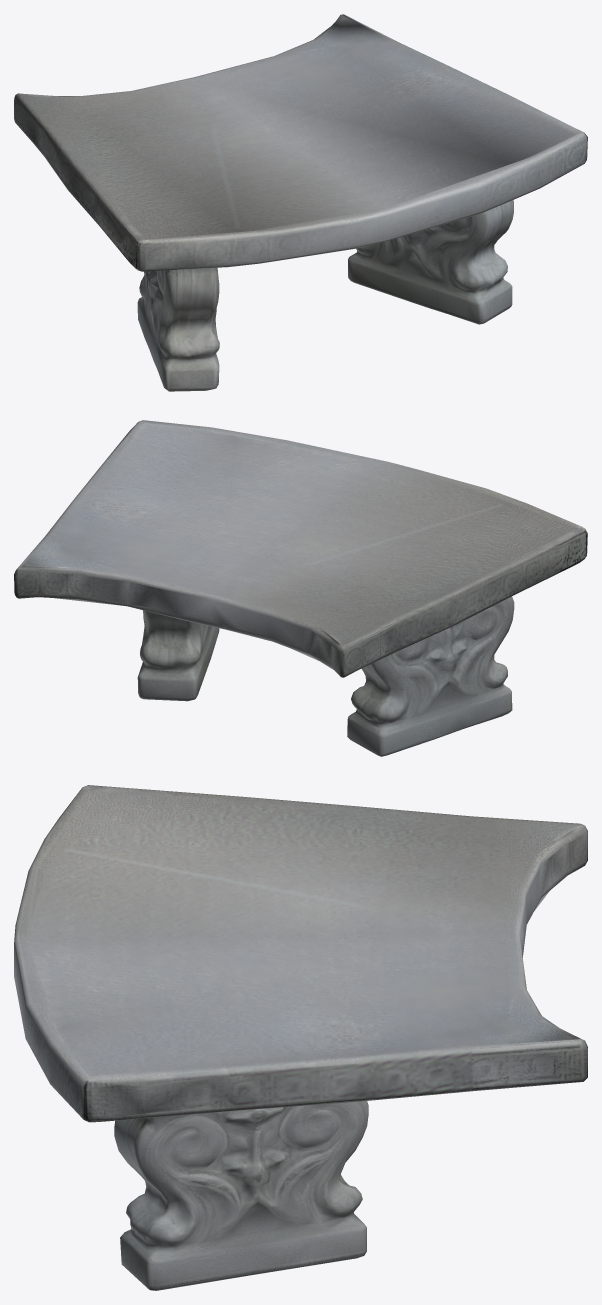
Rendered from ANTIQUE_Bench_Plasti_0403043156_texture.glb.
3 views of the same model, one above another, from view 1: azimuth 30°, elevation 25°; view 2: azimuth 150°, elevation 25°; view 3: azimuth 270°, elevation 25° (orthographic). The views are drawn at different scales.
Parts seen in each view (by area): view 1: Mesh_0.003; view 2: Mesh_0.003; view 3: Mesh_0.003.
Part boxes in pixels (x1=…): Mesh_0.003: x1=14, y1=14, x2=587, y2=391; Mesh_0.003: x1=14, y1=420, x2=587, y2=756; Mesh_0.003: x1=14, y1=785, x2=587, y2=1290.
Bounding box in the file's own units: 1.19 × 0.4572 × 0.9657.
Materials: 1 (1 with a texture image).
